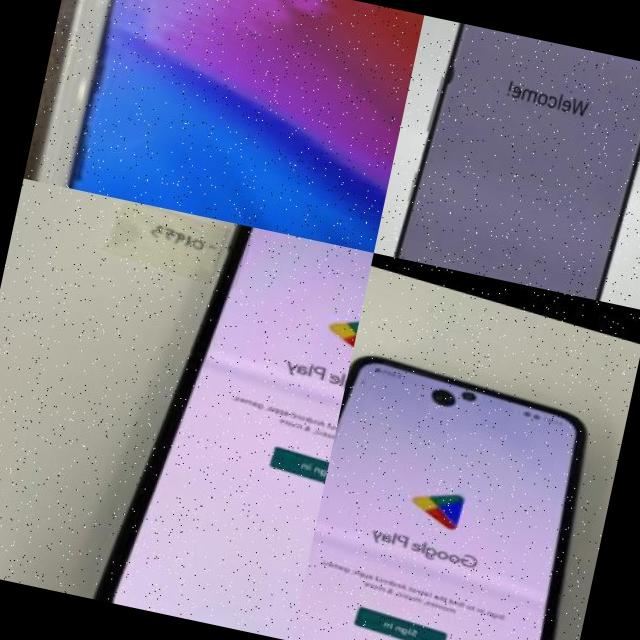dead pixel: (428, 42, 472, 93), (418, 372, 468, 412)
screen crack: (23, 0, 389, 246)
